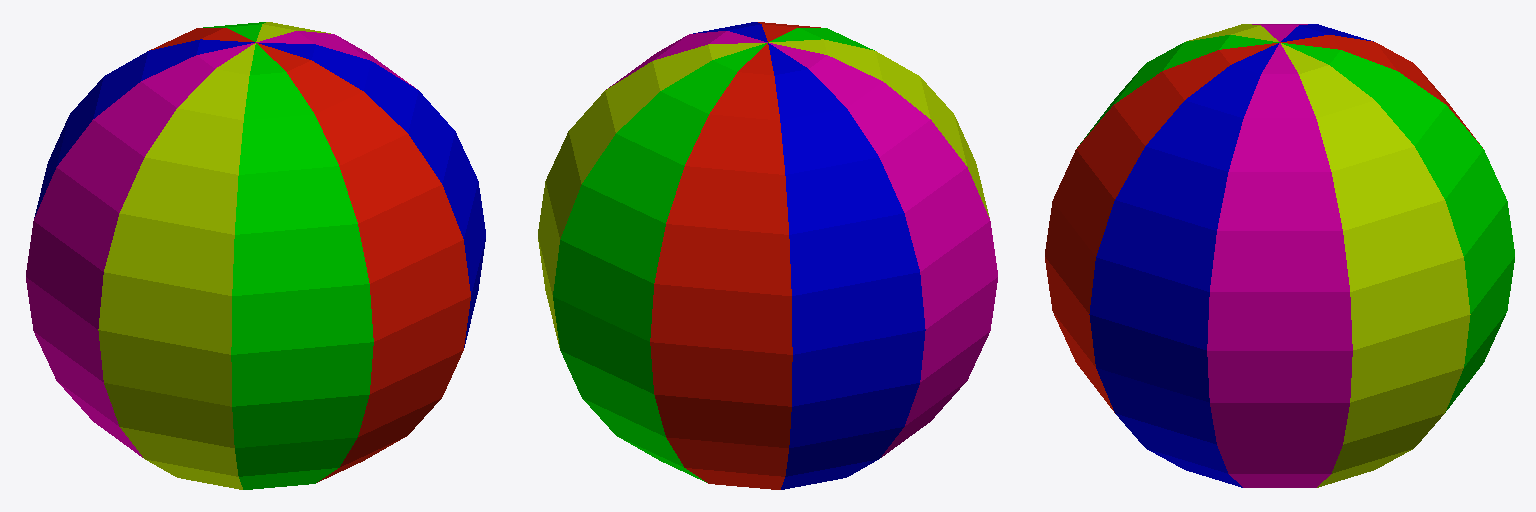
File: discoBall.obj
The picture shows the model from 3 angles: view 1: azimuth 30°, elevation 25°; view 2: azimuth 150°, elevation 25°; view 3: azimuth 270°, elevation 25°; orthographic projection.
Parts seen in each view (by area): view 1: Sphere; view 2: Sphere; view 3: Sphere.
Boxes of the visible parts, box(x1,y1,x2,y2) form: Sphere: box(26, 22, 485, 489); Sphere: box(538, 22, 997, 489); Sphere: box(1045, 24, 1514, 487).
Size of the model in its own units: 1.9 by 2 by 2.